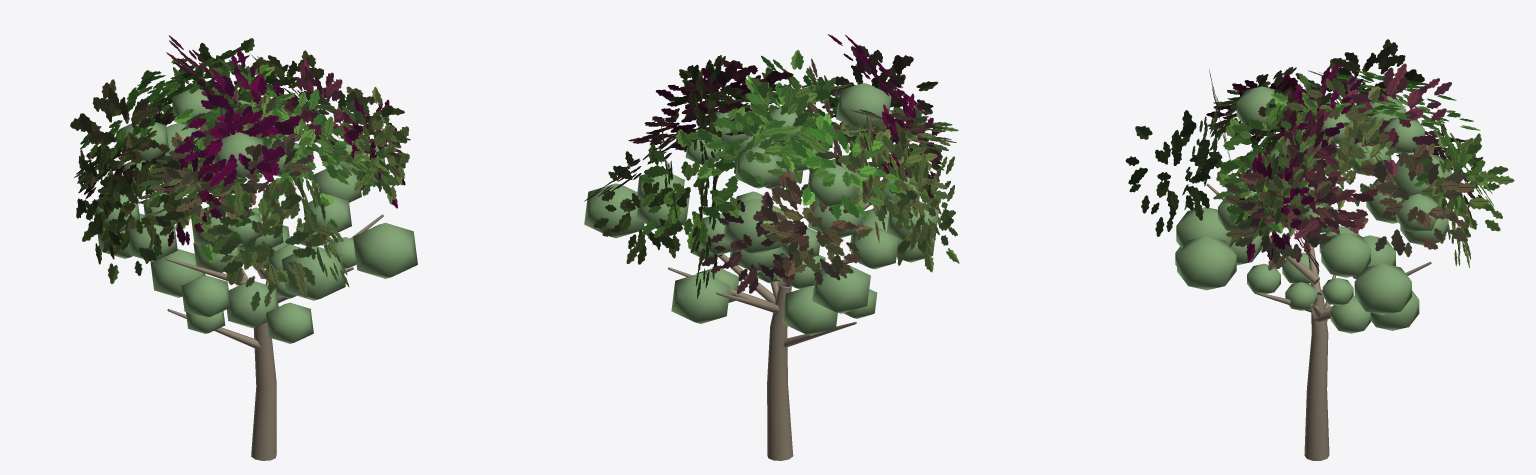
The model's file is tree_oak_cards_lod1.glb.
3 renders of one model, left to right at view 1: azimuth 30°, elevation 25°; view 2: azimuth 150°, elevation 25°; view 3: azimuth 270°, elevation 25°, orthographic. The views are drawn at different scales.
Parts seen in each view (by area): view 1: body; view 2: body; view 3: body.
Boxes of the visible parts, bbox=[...] form: body: bbox=[70, 35, 417, 460]; body: bbox=[584, 34, 959, 460]; body: bbox=[1125, 39, 1514, 460].
Bounding box in the file's own units: 16.26 × 14.89 × 14.63.
Materials: 2 (1 with a texture image).
